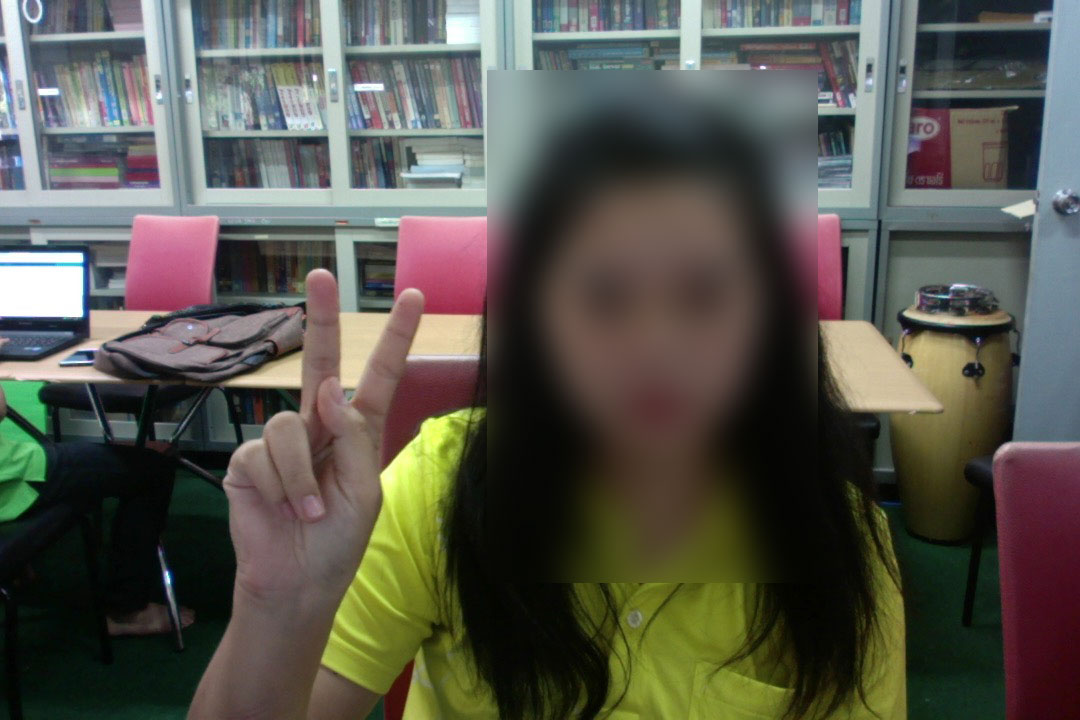ko: (206, 264, 431, 625)
